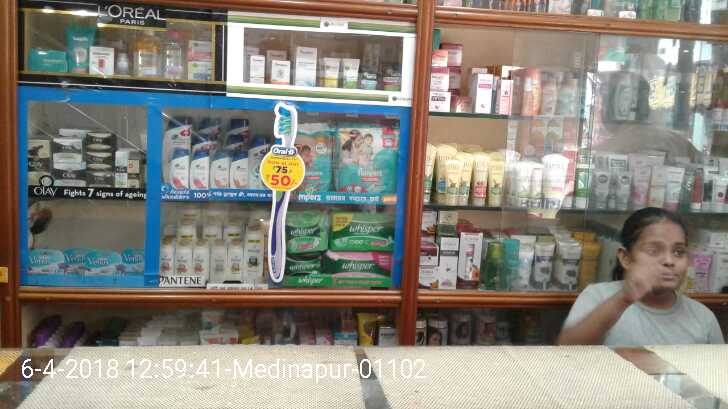venus: (85, 250, 121, 275), (29, 249, 63, 274), (63, 248, 85, 275), (121, 250, 144, 275)
